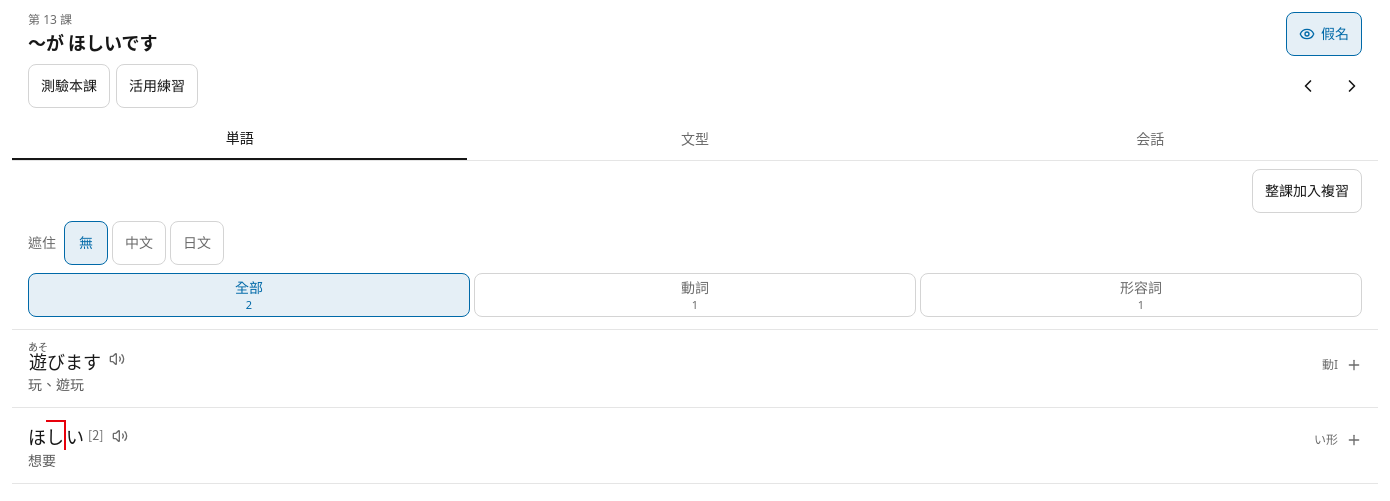
Test case: LessonDetail › 整課加入複習:以全部 id 呼叫 addCards,顯示新加入字數與「開始複習」並移焦點
Expected: the text "玩、遊玩" is shown, [28, 375, 84, 394]
Click the button "整課加入複習". click: (1307, 191)
box: [1252, 169, 1362, 213]
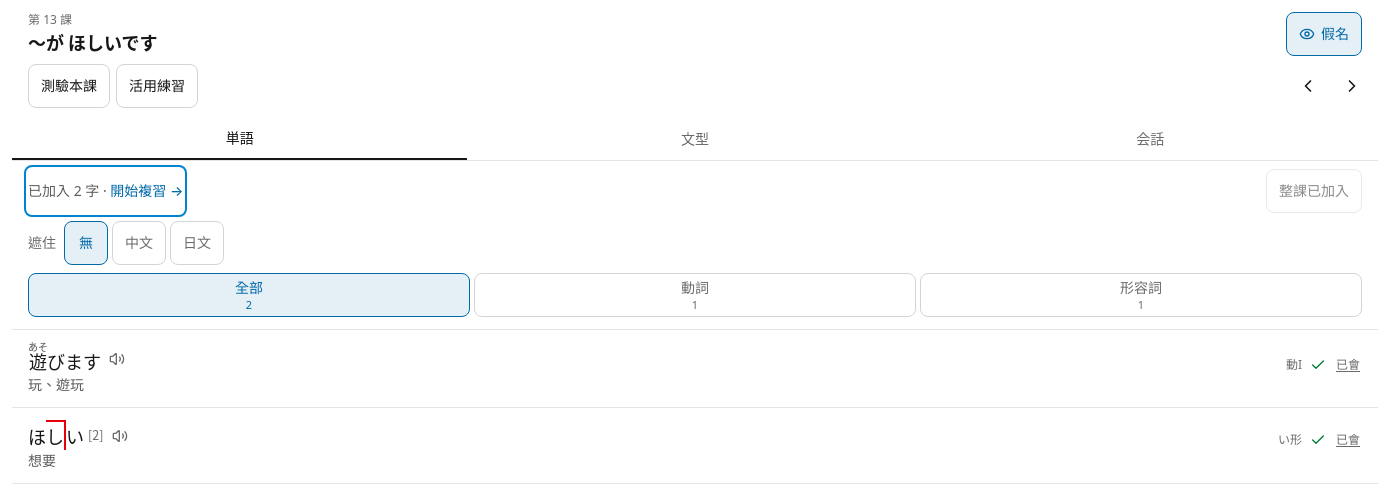
Result: the button "整課已加入" is disabled at [1266, 169, 1362, 213]
Result: the message reads "已加入 2 字 · 開始複習 →" at [28, 181, 183, 200]
